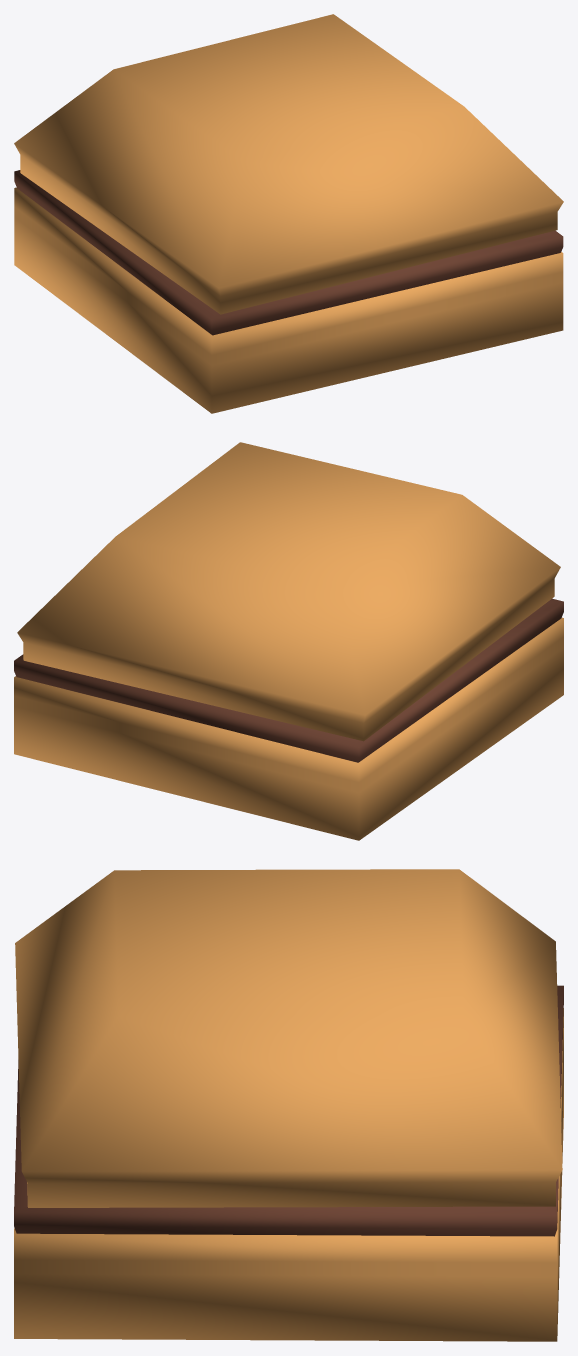
The model's file is theburger.glb.
3 renders of one model, top to bottom at view 1: azimuth 30°, elevation 25°; view 2: azimuth 150°, elevation 25°; view 3: azimuth 270°, elevation 25°, orthographic. The views are drawn at different scales.
Visible parts, largest first — view 1: Cube.001, Cube, Meat; view 2: Cube.001, Cube, Meat; view 3: Cube.001, Cube, Meat.
Part boxes in pixels (x1,y1,x2,y2): Cube.001: [14, 14, 563, 314]; Cube: [14, 187, 563, 413]; Meat: [14, 170, 563, 335]; Cube.001: [17, 442, 560, 741]; Cube: [14, 617, 563, 840]; Meat: [14, 598, 563, 762]; Cube.001: [15, 869, 562, 1207]; Cube: [14, 1008, 563, 1341]; Meat: [14, 985, 563, 1236].
Size of the model in its own units: 6.19 by 3.52 by 6.19.
